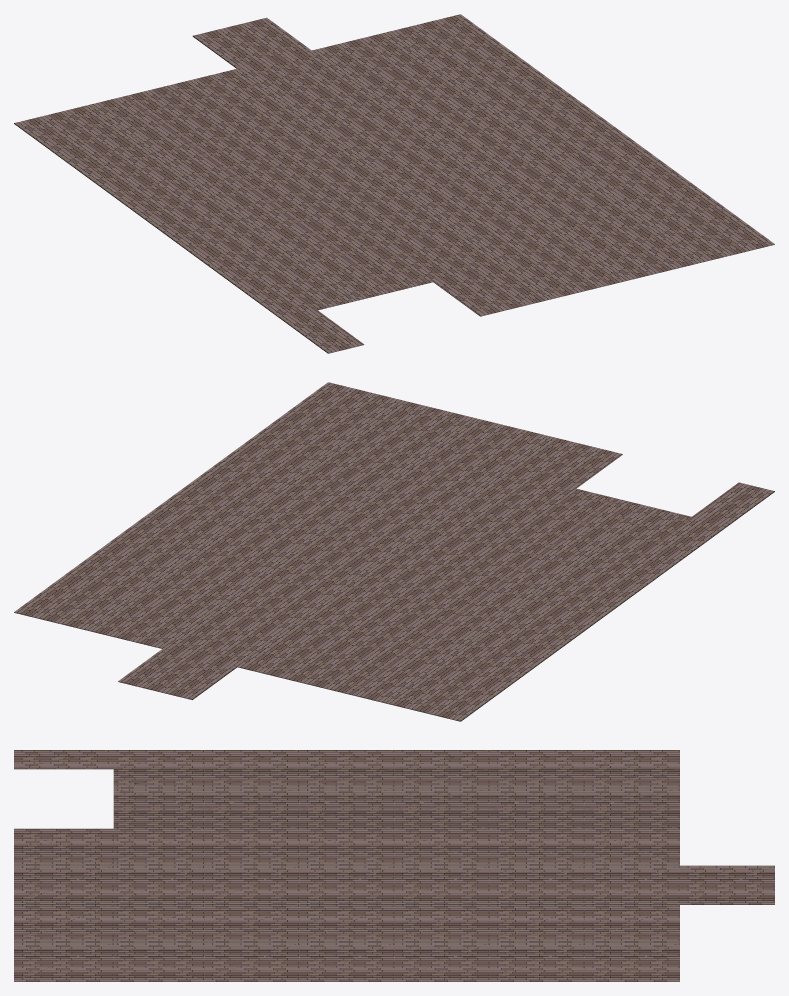
File: plane floor 1  1.fbx
The picture shows the model from 3 angles, top to bottom: view 1: azimuth 30°, elevation 25°; view 2: azimuth 150°, elevation 25°; view 3: azimuth 270°, elevation 25°; orthographic projection. The views are drawn at different scales.
Parts seen in each view (by area): view 1: Plane floor 1 - 1, Plane floor 1.002, Plane floor 1 - 3, Plane floor 1 - 2; view 2: Plane floor 1 - 1, Plane floor 1.002, Plane floor 1 - 3, Plane floor 1 - 2; view 3: Plane floor 1 - 1, Plane floor 1.002, Plane floor 1 - 3, Plane floor 1 - 2.
Part boxes in pixels (bbox=[...]): Plane floor 1 - 1: bbox=[50, 14, 727, 310]; Plane floor 1.002: bbox=[433, 209, 774, 316]; Plane floor 1 - 3: bbox=[14, 114, 364, 353]; Plane floor 1 - 2: bbox=[192, 17, 311, 68]; Plane floor 1 - 1: bbox=[14, 416, 691, 712]; Plane floor 1.002: bbox=[281, 382, 622, 488]; Plane floor 1 - 3: bbox=[424, 482, 774, 721]; Plane floor 1 - 2: bbox=[118, 648, 236, 699]; Plane floor 1 - 1: bbox=[113, 768, 679, 981]; Plane floor 1.002: bbox=[14, 828, 113, 981]; Plane floor 1 - 3: bbox=[14, 750, 679, 769]; Plane floor 1 - 2: bbox=[680, 865, 774, 904].
Size of the model in its own units: 43.1 by 0.0597 by 59.99.
Materials: 1 (1 with a texture image).
